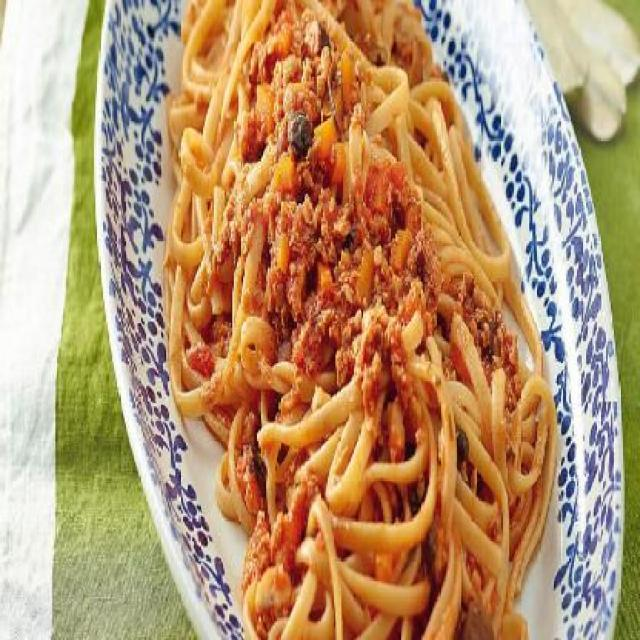Pasta al ragu: (142, 8, 584, 596)
